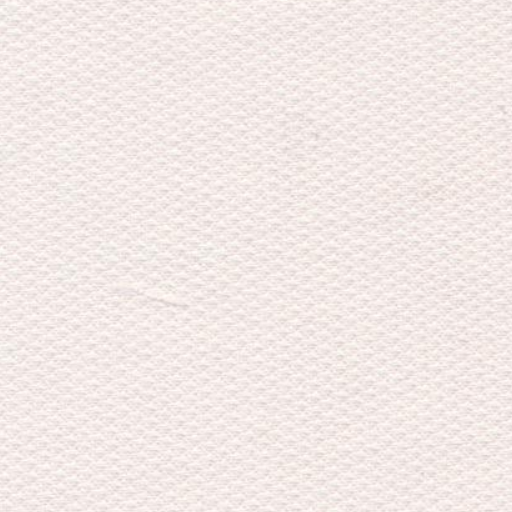DuanSha: (113, 258, 197, 322)
